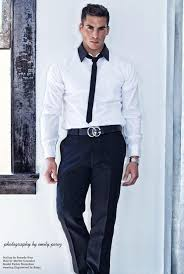F_belt: (61, 120, 130, 142)
F_dress pants: (50, 136, 123, 270)
F_shirt: (41, 53, 144, 167)
F_tie: (87, 55, 99, 130)
